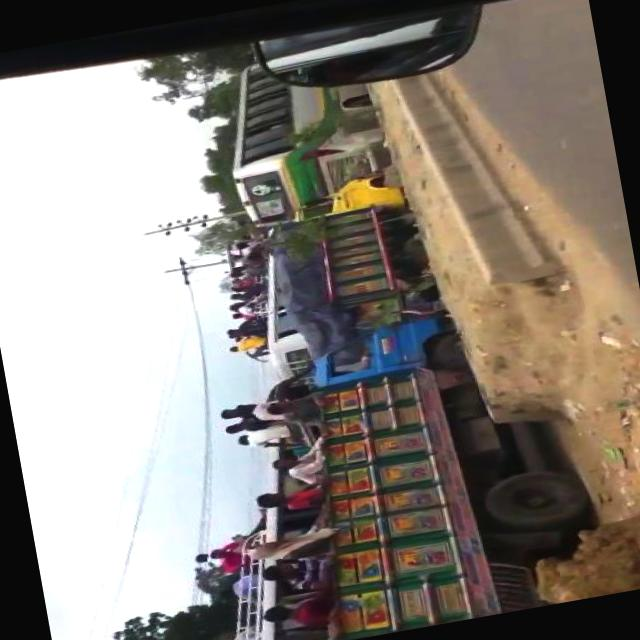bus: (209, 45, 396, 238)
truck: (259, 291, 606, 640), (268, 160, 455, 356)
